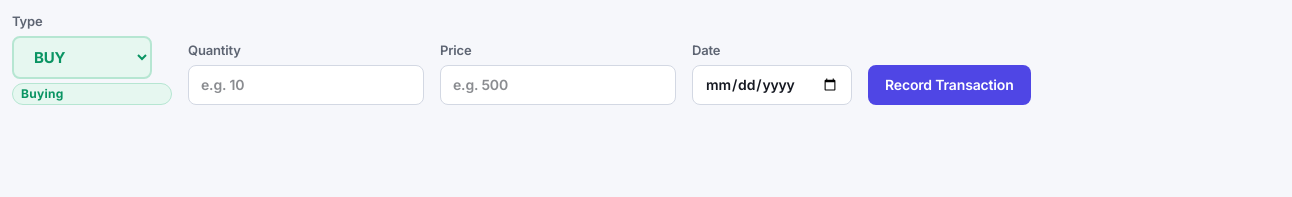
it: RecordTransactionForm › an over-sell attempt shows a clear error message and quantity is unchanged
Select "SELL" in the dropdown named "Transaction type". click: (82, 57)
box: [12,36,152,78]
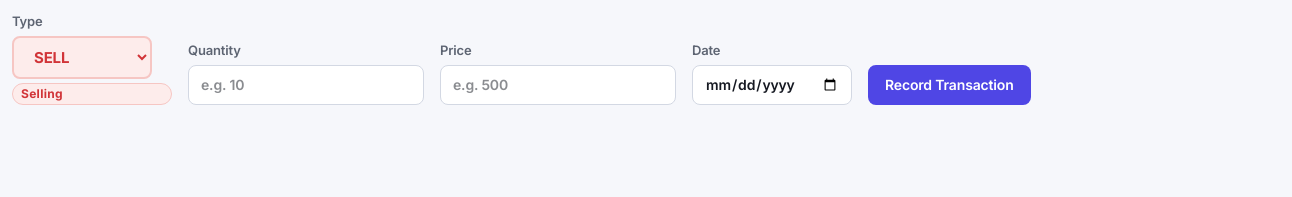
Type "10" into the field labelled "Quantity". click: (306, 84)
box: [188,64,424,104]
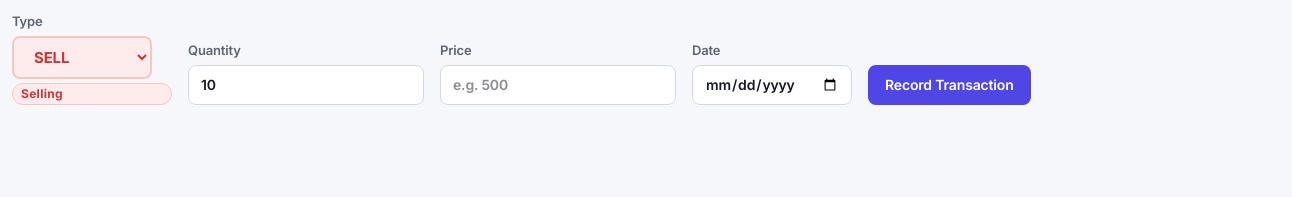
Type "500" into the field labelled "Price". click: (558, 84)
box: [440,64,676,104]
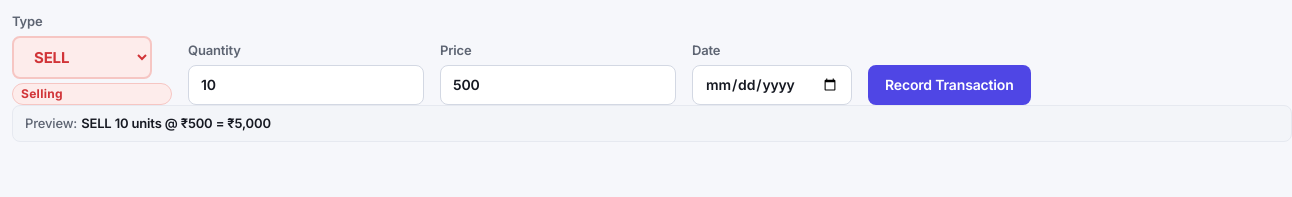
Type "2026-09-01" into the date field named "Transaction date". click: (772, 84)
box: [692,64,852,104]
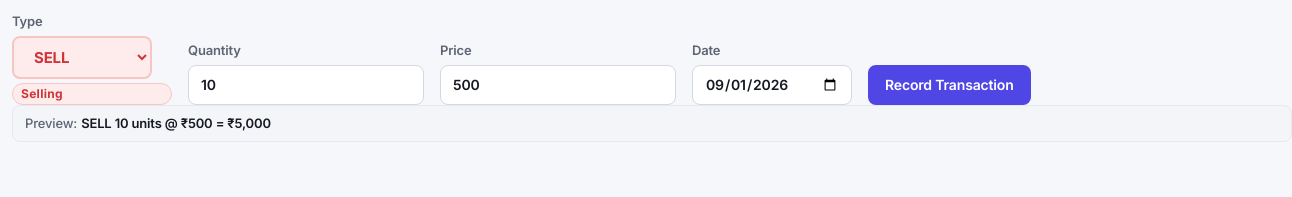
Click the button "Record Transaction". click: (949, 84)
box: [868,64,1031,104]
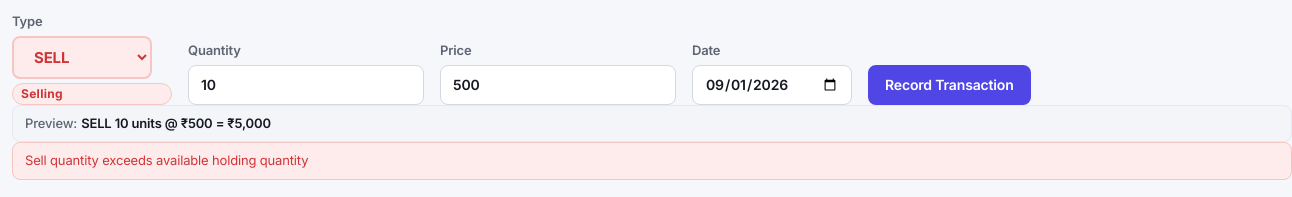
Now the text "Sell quantity exceeds available holding quantity" is shown, box [12,142,1291,180]
